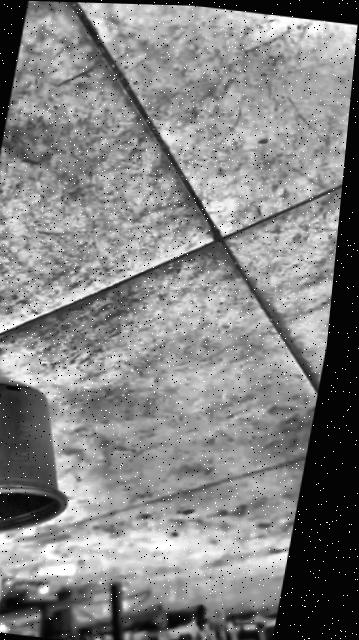pot: (0, 379, 86, 552)
